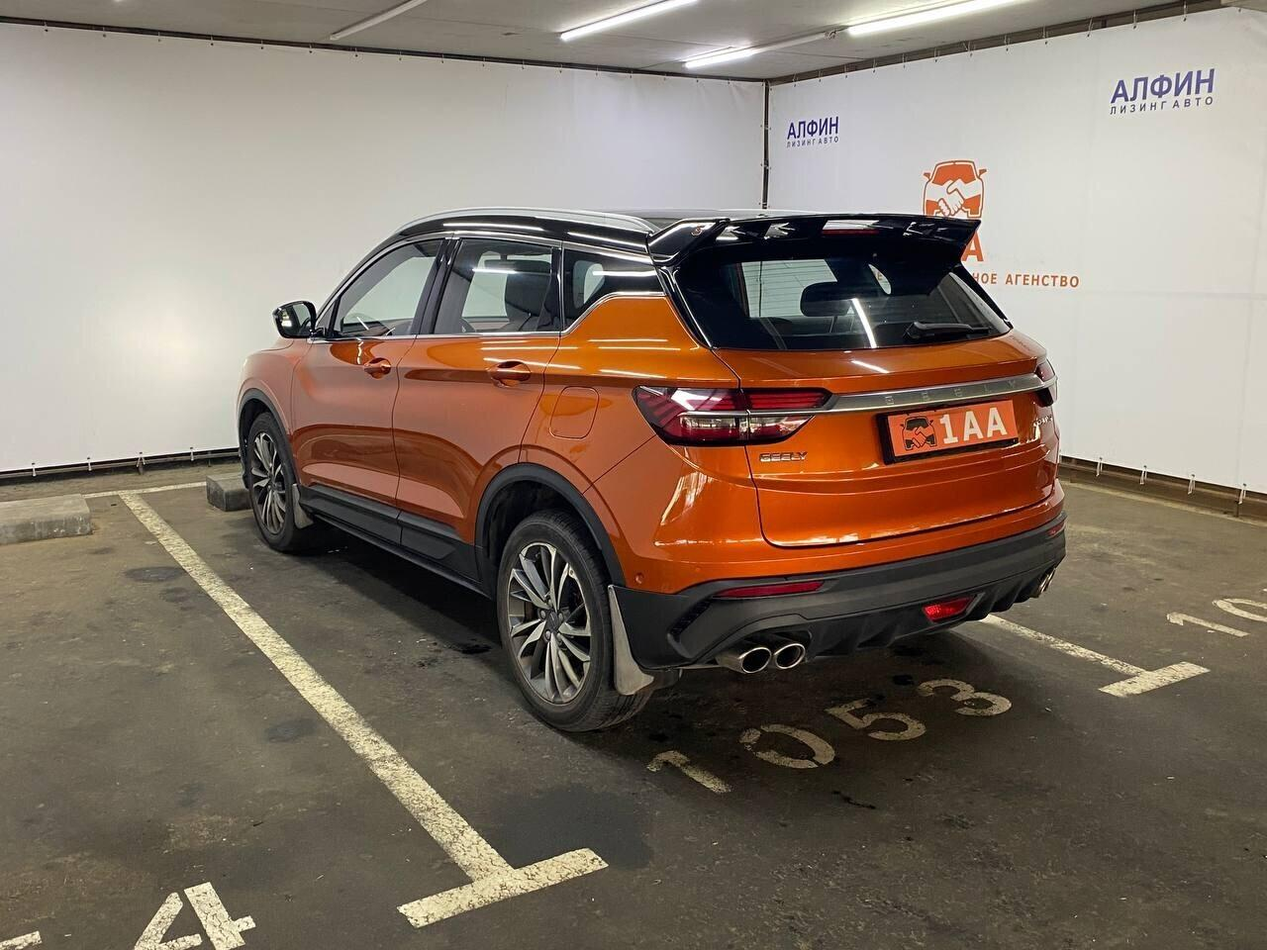Coolray_2019-2023: (233, 203, 1076, 710)
